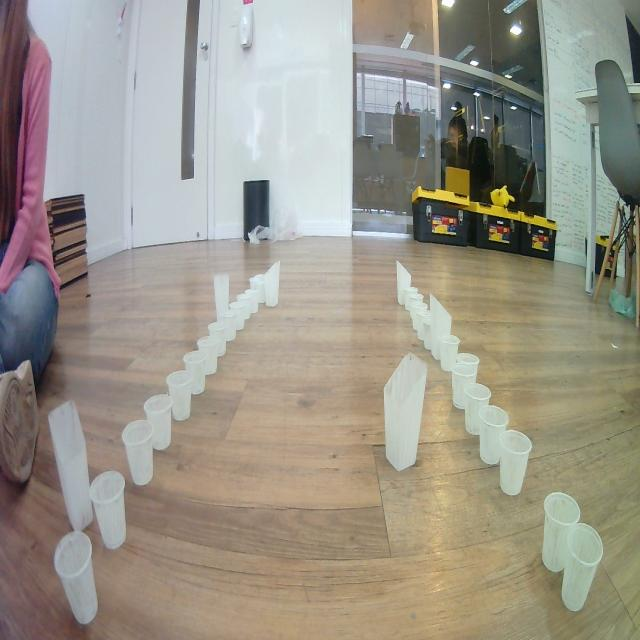erva_daninha: (47, 398, 94, 533), (383, 351, 428, 473), (248, 260, 281, 308), (430, 293, 452, 363), (213, 272, 230, 322), (395, 259, 412, 306)
planta: (53, 528, 100, 626), (560, 523, 604, 613), (541, 491, 581, 573), (89, 470, 127, 550), (498, 428, 533, 497), (122, 420, 155, 487), (478, 404, 510, 466), (144, 393, 174, 451), (464, 382, 492, 436), (166, 371, 193, 421), (451, 363, 477, 410), (182, 349, 207, 396), (438, 333, 461, 372), (197, 335, 218, 376), (456, 352, 480, 383), (208, 321, 226, 357), (218, 308, 236, 341), (228, 300, 246, 330), (411, 302, 428, 332), (407, 292, 424, 320), (417, 310, 432, 341), (244, 286, 259, 314), (402, 286, 418, 311), (237, 293, 251, 320), (251, 280, 265, 304), (424, 320, 432, 350)
